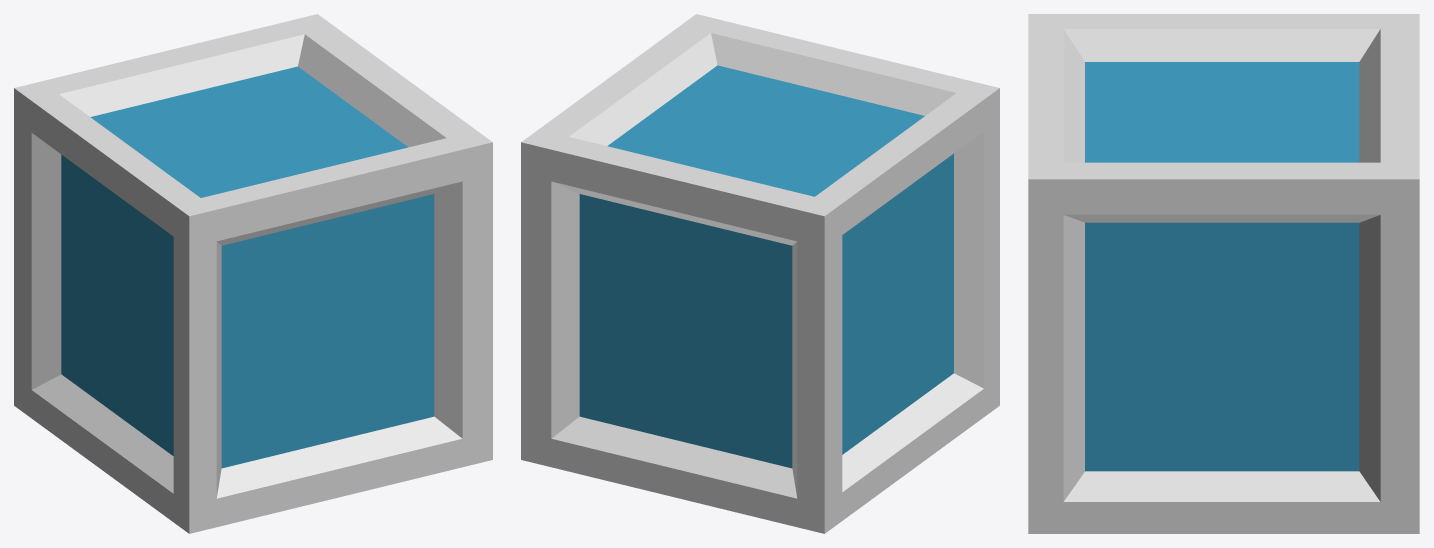
File: water.fbx
3 renders of one model, left to right at view 1: azimuth 30°, elevation 25°; view 2: azimuth 150°, elevation 25°; view 3: azimuth 270°, elevation 25°, orthographic. The views are drawn at different scales.
Visible parts, largest first — view 1: water1; view 2: water1; view 3: water1.
Boxes of the visible parts, box(x1,y1,x2,y2) form: water1: box(14, 14, 492, 533); water1: box(521, 14, 999, 533); water1: box(1028, 14, 1419, 533).
Size of the model in its own units: 1.62 by 1.62 by 1.62.
